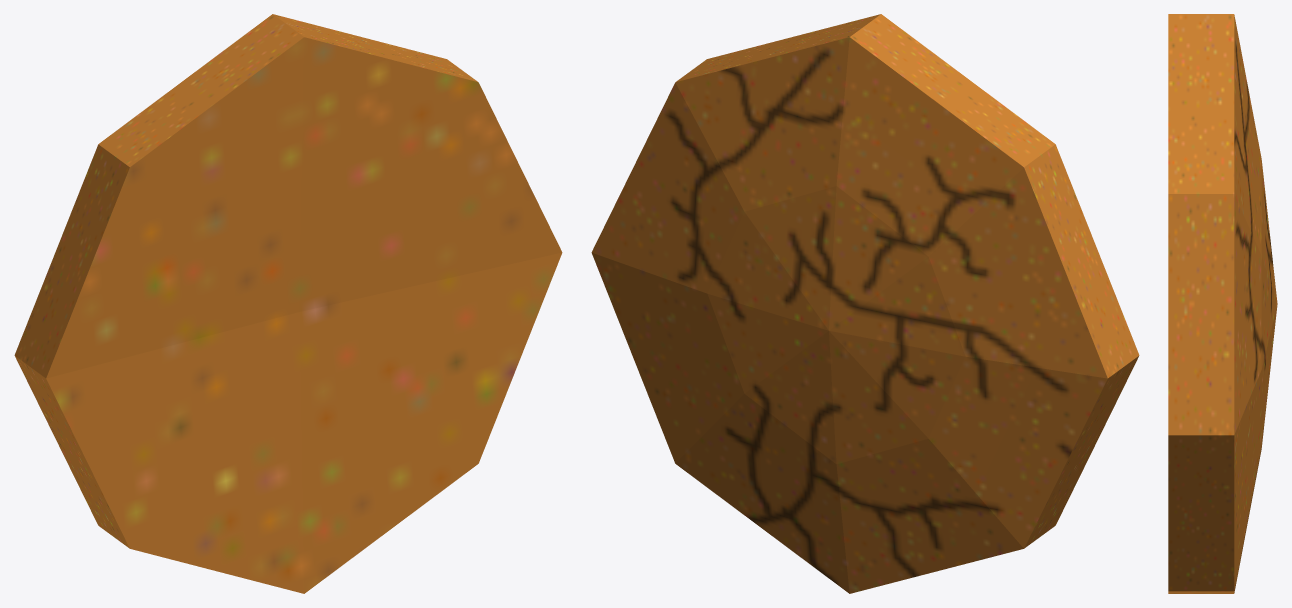
Rendered from sporting clay.glb.
The picture shows the model from 3 angles, left to right: view 1: azimuth 30°, elevation 25°; view 2: azimuth 150°, elevation 25°; view 3: azimuth 270°, elevation 25°; orthographic projection. The views are drawn at different scales.
Parts seen in each view (by area): view 1: Cube.004; view 2: Cube.004; view 3: Cube.004.
Boxes of the visible parts, bbox=[...] form: Cube.004: bbox=[14, 14, 562, 593]; Cube.004: bbox=[591, 14, 1139, 593]; Cube.004: bbox=[1168, 14, 1277, 593].
Bounding box in the file's own units: 0.4551 × 0.4689 × 0.08.
Materials: 1 (1 with a texture image).
